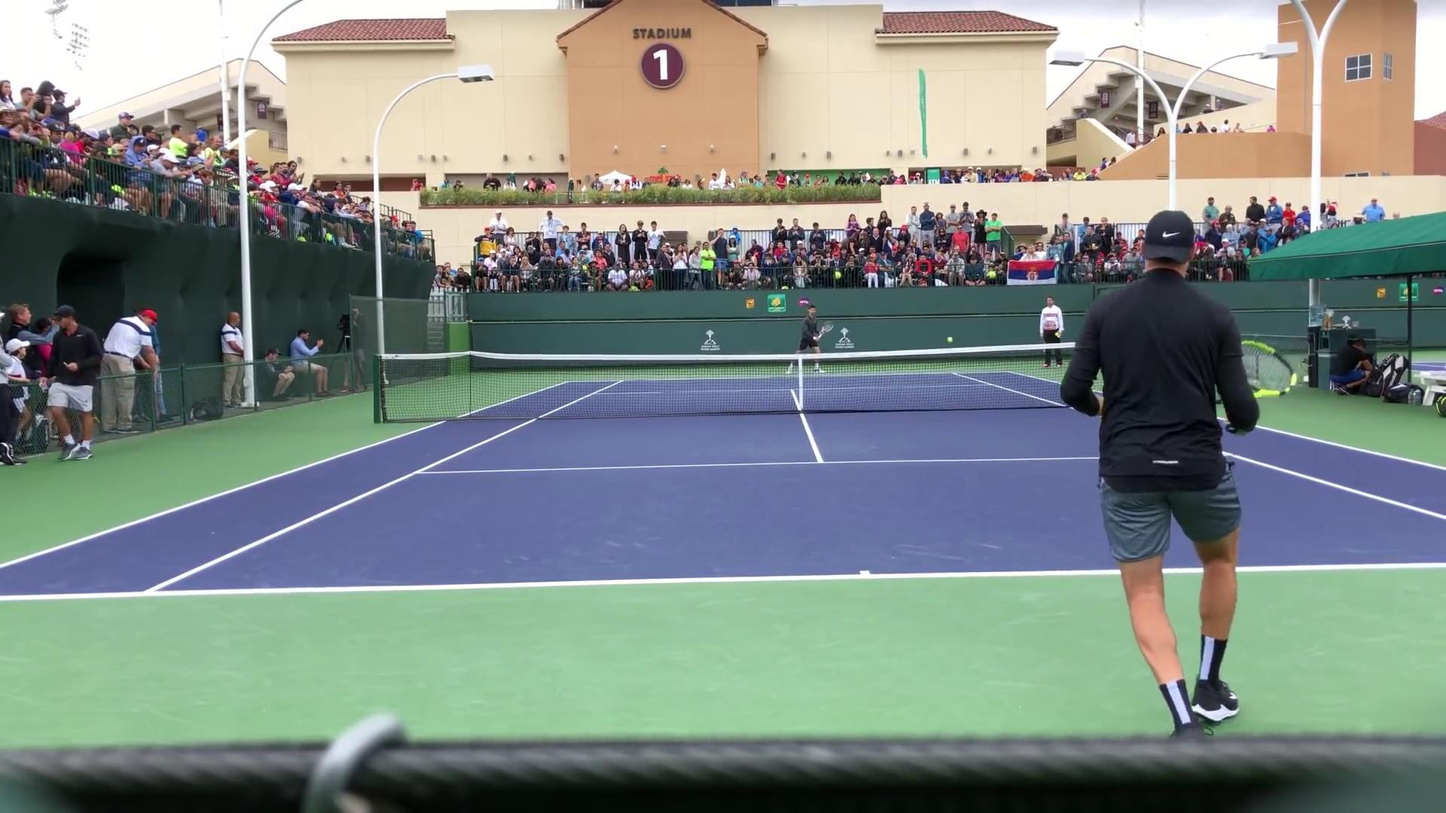ball: (946, 336, 953, 343)
